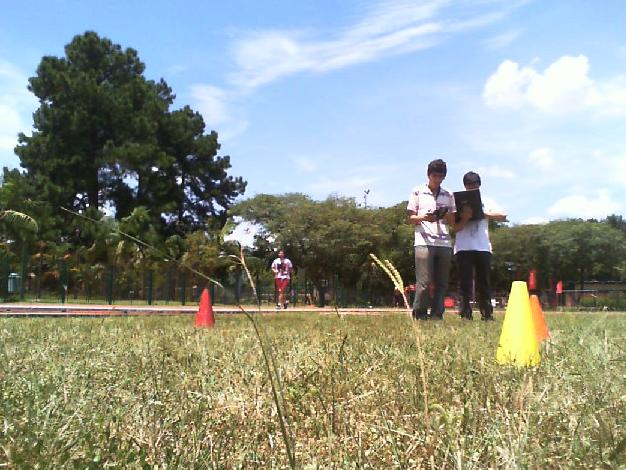0 cone: (494, 281, 541, 368), (528, 294, 551, 342), (193, 288, 217, 329)
